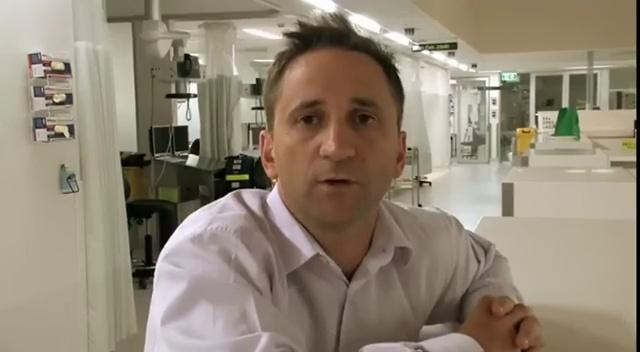others: (141, 11, 545, 351)
